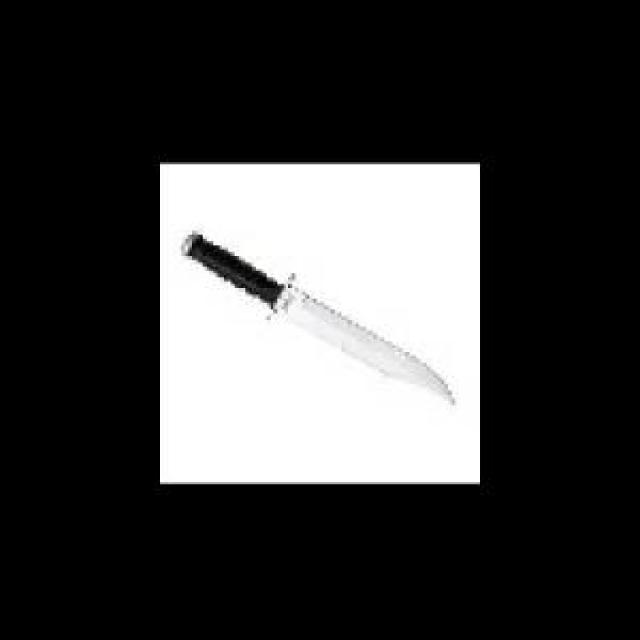knife: (175, 218, 460, 406)
